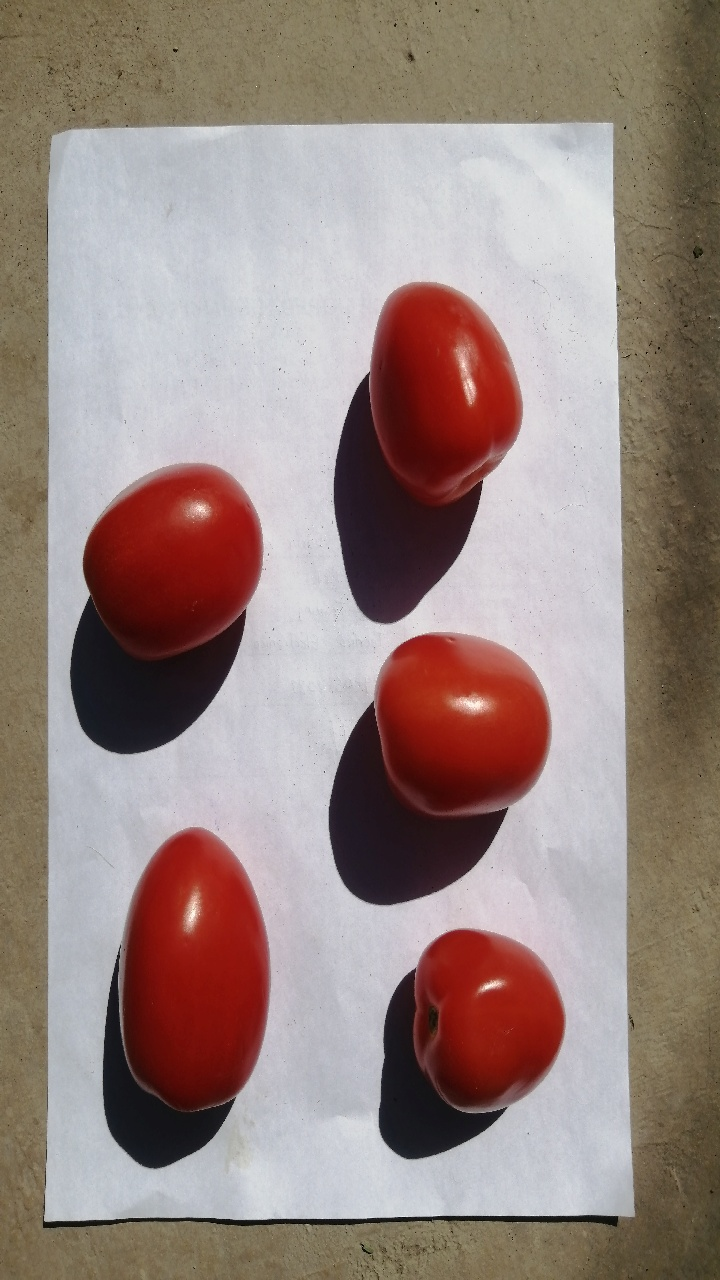tomateRojo: (101, 819, 294, 1132), (341, 265, 551, 522), (61, 434, 269, 683), (381, 902, 589, 1149), (355, 606, 569, 834)
